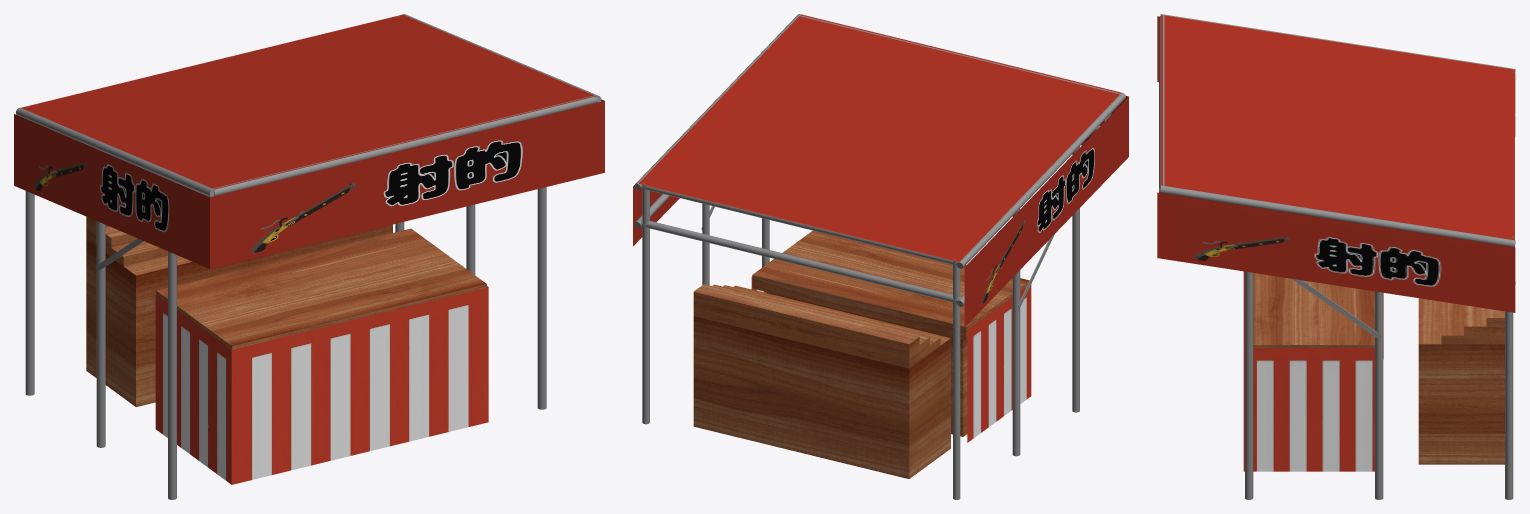
File: shateki_test.fbx
3 views of the same model, side by side, from view 1: azimuth 30°, elevation 25°; view 2: azimuth 150°, elevation 25°; view 3: azimuth 270°, elevation 25° (orthographic). The views are drawn at different scales.
Visible parts, largest first — view 1: pPlane2, pPlane1, maku, dai, shatekidai, pCylinder13, pCylinder1, pCylinder6, pCylinder2, pCylinder3, pCylinder4, pCylinder7; view 2: pPlane2, shatekidai, dai, maku, pPlane1, pCylinder16, pCylinder9, pCylinder3, pCylinder4, pCylinder2, pCylinder1, pCylinder15 (+3 smaller); view 3: pPlane2, maku, pPlane1, shatekidai, dai, pCylinder12, pCylinder6, pCylinder7, pCylinder9, pCylinder13, pCube3, pCylinder4.
Boxes of the visible parts, box(x1,y1,x2,y2) form: pPlane2: box(20, 14, 595, 189); pPlane1: box(155, 286, 488, 484); maku: box(14, 100, 604, 268); dai: box(156, 228, 486, 349); shatekidai: box(86, 192, 392, 406); pCylinder13: box(212, 95, 597, 195); pCylinder1: box(168, 251, 176, 499); pCylinder6: box(537, 187, 546, 409); pCylinder2: box(96, 221, 105, 447); pCylinder3: box(25, 106, 34, 395); pCylinder4: box(16, 107, 215, 196); pCylinder7: box(466, 204, 475, 274); pPlane2: box(638, 14, 1121, 261); shatekidai: box(693, 284, 950, 478); dai: box(752, 230, 1029, 436); maku: box(633, 96, 1128, 326); pPlane1: box(751, 277, 1031, 442); pCylinder16: box(640, 219, 961, 302); pCylinder9: box(642, 183, 649, 424); pCylinder3: box(953, 259, 960, 499); pCylinder4: box(956, 92, 1125, 268); pCylinder2: box(1012, 208, 1020, 456); pCylinder1: box(1072, 146, 1079, 412); pCylinder15: box(641, 184, 957, 264); pPlane2: box(1161, 15, 1514, 240); maku: box(1157, 16, 1515, 312); pPlane1: box(1243, 271, 1374, 471); shatekidai: box(1418, 298, 1504, 464); dai: box(1244, 272, 1383, 359); pCylinder12: box(1159, 185, 1515, 246); pCylinder6: box(1245, 271, 1253, 499); pCylinder7: box(1375, 291, 1383, 499); pCylinder9: box(1505, 236, 1513, 499); pCylinder13: box(1159, 15, 1164, 191); pCube3: box(1291, 278, 1381, 339); pCylinder4: box(1160, 14, 1515, 73).
Bounding box in the file's own units: 6.41 × 5.36 × 5.51.
